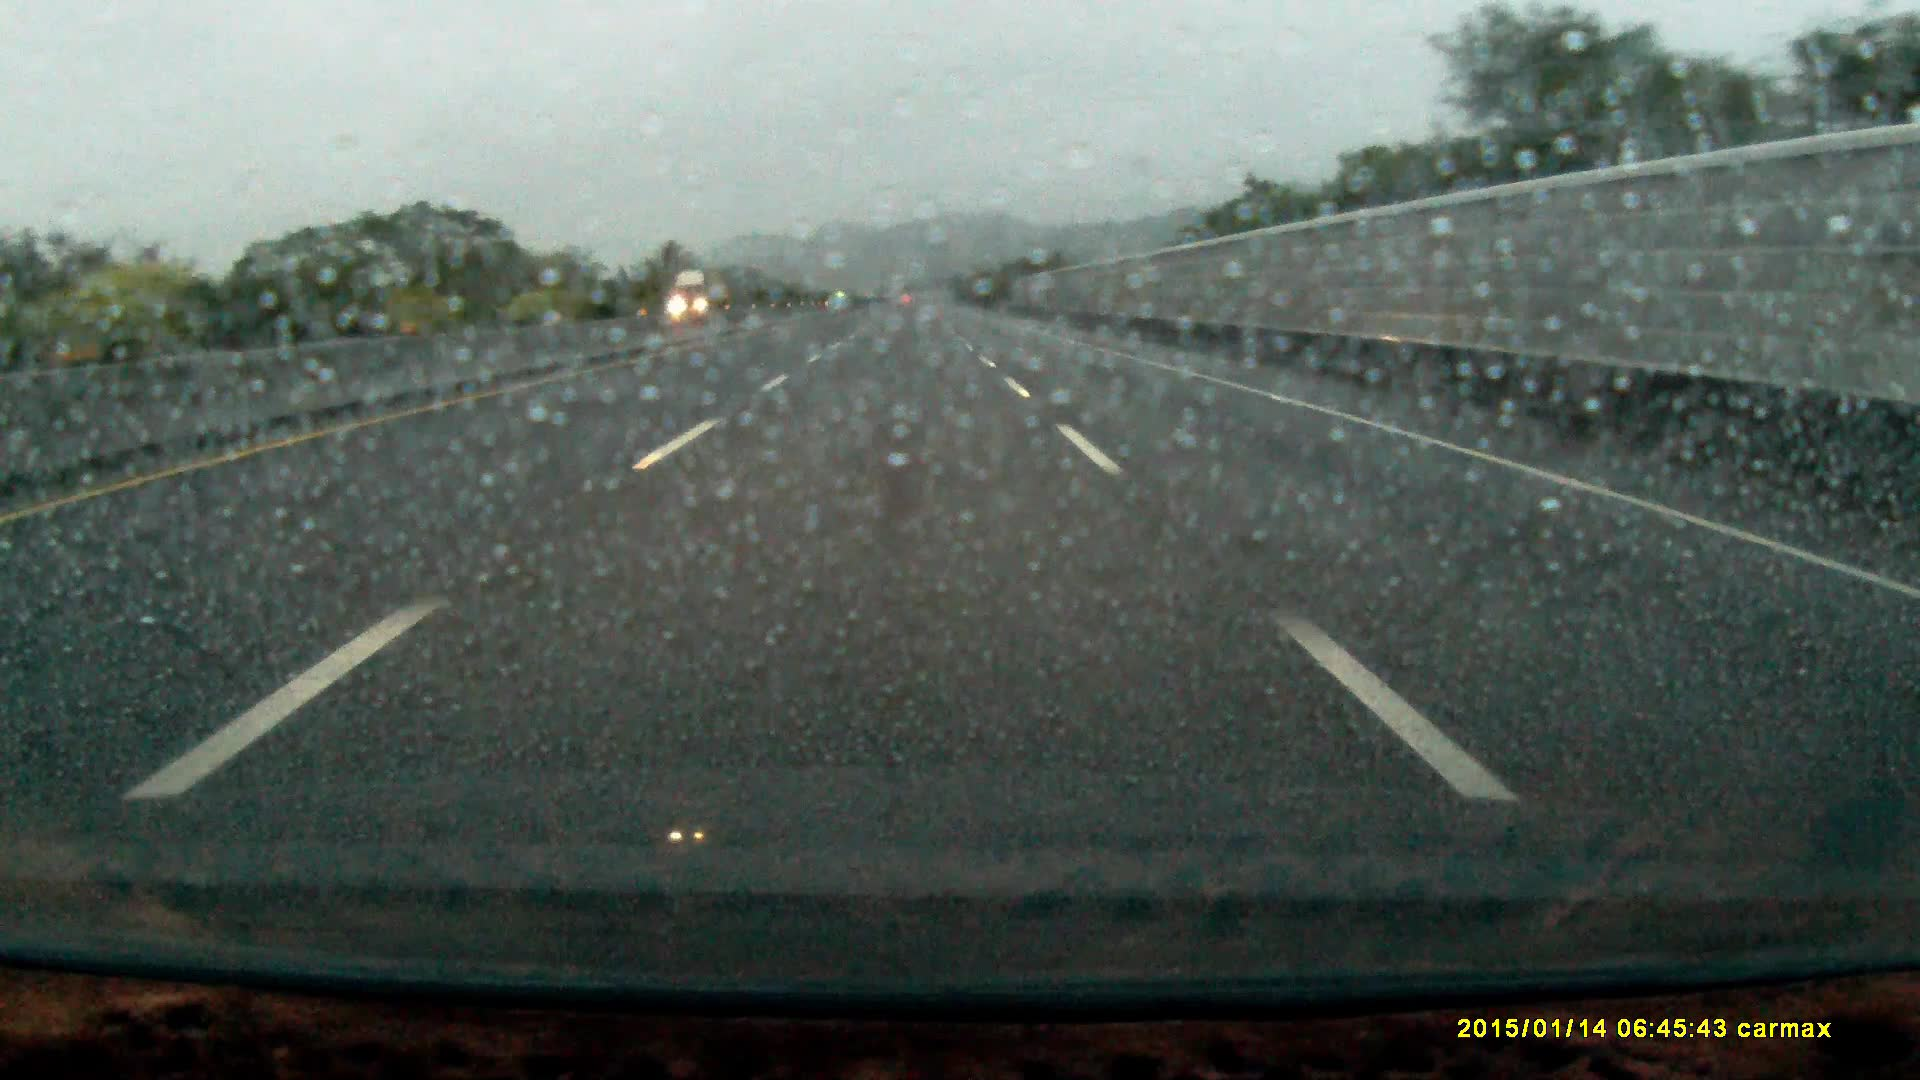vehicle: (669, 272, 728, 318)
